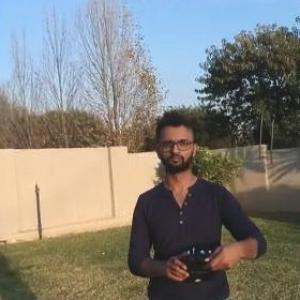follow: (123, 106, 271, 299)
